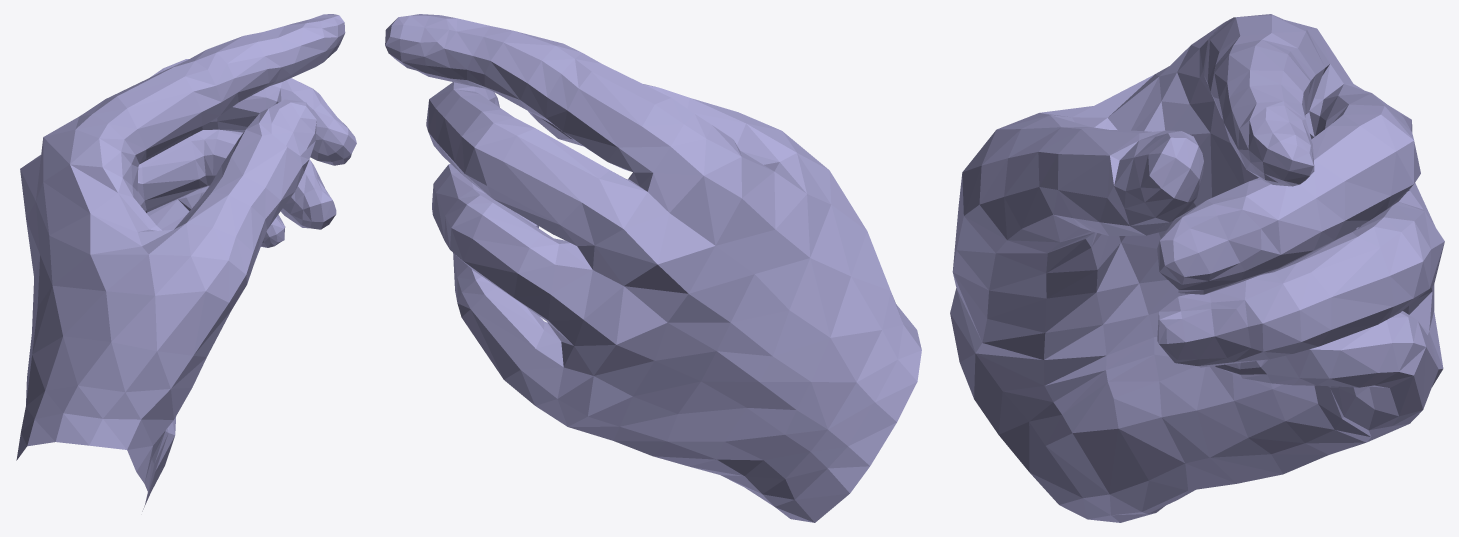
File: hand_0053.glb
The picture shows the model from 3 angles, left to right: view 1: azimuth 30°, elevation 25°; view 2: azimuth 150°, elevation 25°; view 3: azimuth 270°, elevation 25°; orthographic projection. The views are drawn at different scales.
Parts seen in each view (by area): view 1: world; view 2: world; view 3: world.
Boxes of the visible parts, x1,y1,x2,y2 form: world: (16,14,356,511); world: (385,14,921,522); world: (950,14,1444,522).
Bounding box in the file's own units: 0.1258 × 0.124 × 0.0929.
